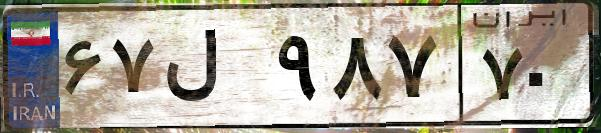0: (525, 38, 570, 115)
6: (57, 26, 110, 100)
7: (385, 28, 445, 110), (475, 38, 525, 113), (110, 28, 158, 98)
8: (330, 28, 385, 110)
9: (270, 28, 330, 110)
ل: (158, 20, 270, 120)
